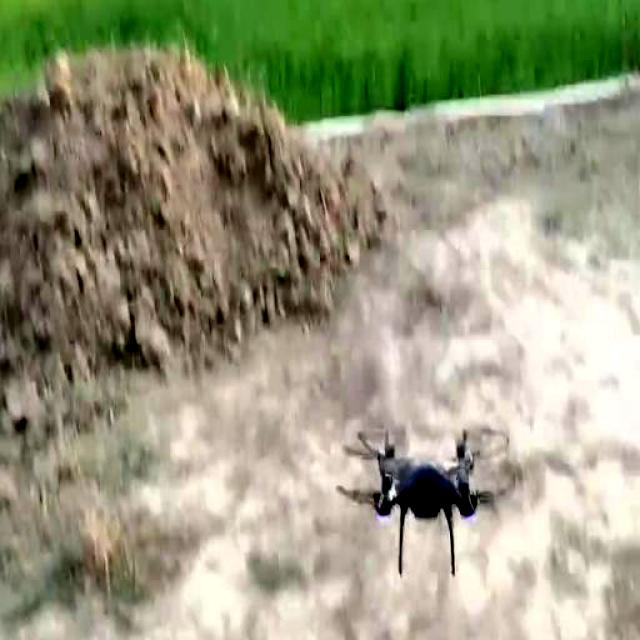bird: (339, 401, 494, 566)
